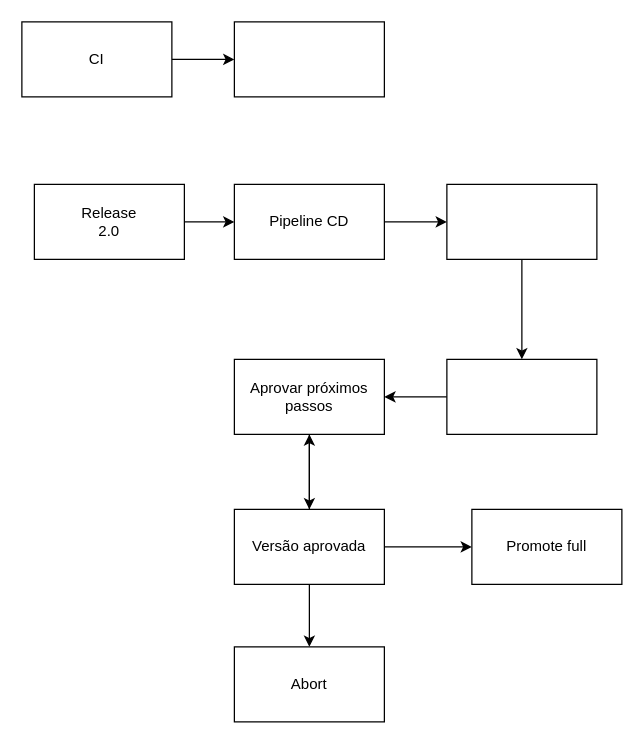
This 644x744 diagram has some shape labels left out. Here are the shapes that lost their labels. From the top down, the centre of each, then its label:
At (308,59): "Imagem docker".
At (521,221): "Change manifest TargetRevision = 2.0".
At (521,396): "Sync no argo".
